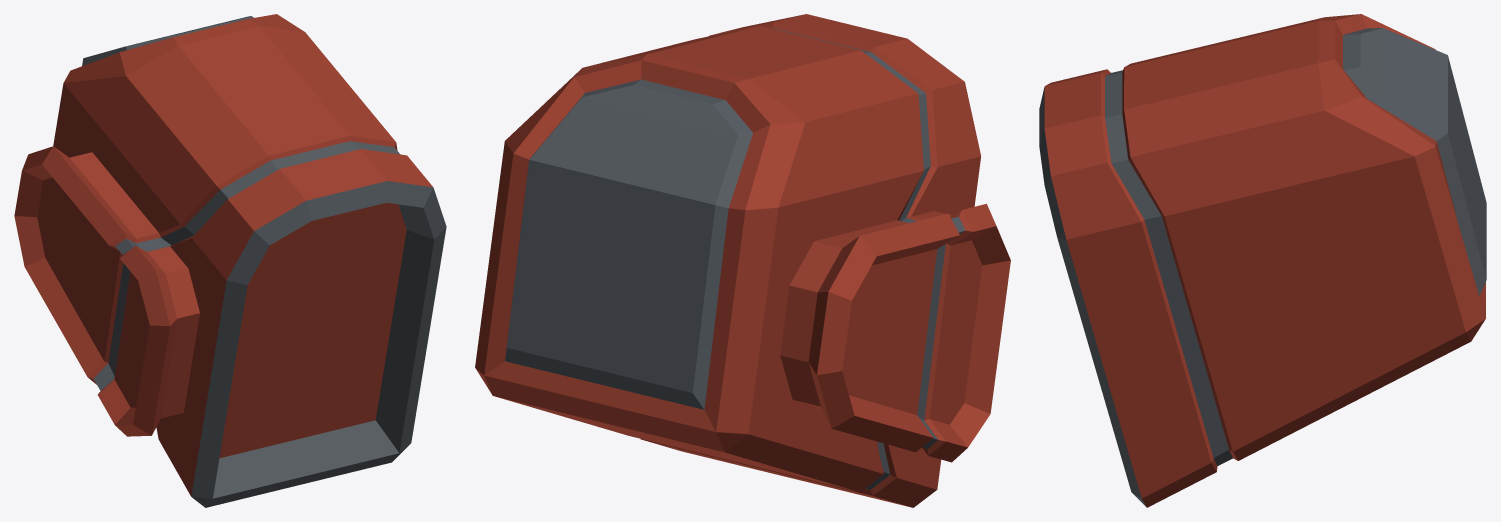
File: Dropship_02_Light_Mount_Red.fbx
The picture shows the model from 3 angles, left to right: view 1: azimuth 30°, elevation 25°; view 2: azimuth 150°, elevation 25°; view 3: azimuth 270°, elevation 25°; orthographic projection. The views are drawn at different scales.
Parts seen in each view (by area): view 1: Dropship_02_Light_Mount_Red; view 2: Dropship_02_Light_Mount_Red; view 3: Dropship_02_Light_Mount_Red.
Part boxes in pixels (x1=…): Dropship_02_Light_Mount_Red: x1=14, y1=14, x2=446, y2=507; Dropship_02_Light_Mount_Red: x1=475, y1=14, x2=1010, y2=507; Dropship_02_Light_Mount_Red: x1=1039, y1=14, x2=1486, y2=507.
Size of the model in its own units: 185 by 256 by 248.
1 material, 1 textured.
